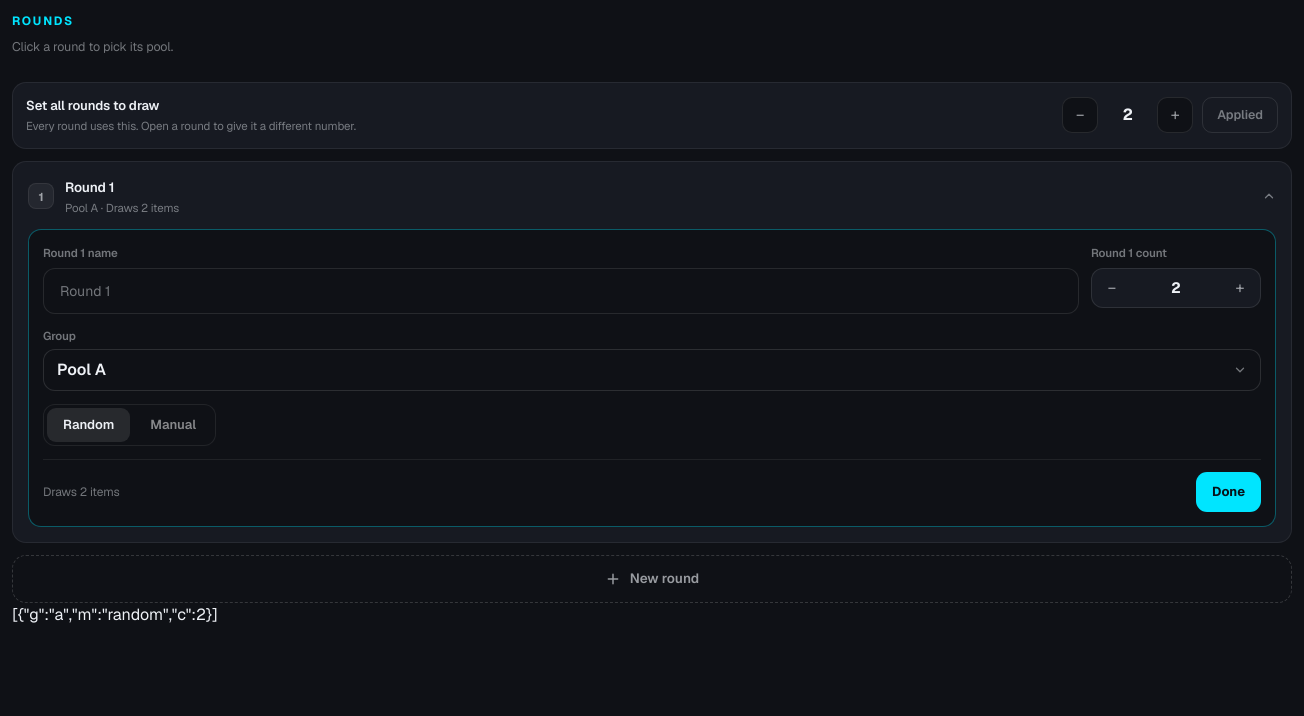
Test: RoundsEditor › switches to manual mode with per-place item dropdowns, seeding the minimum places
The image size is (1304, 716).
Click the radio button with aria-label "Round 1 manual" at (173, 424), box left=134, top=408, right=212, bottom=442
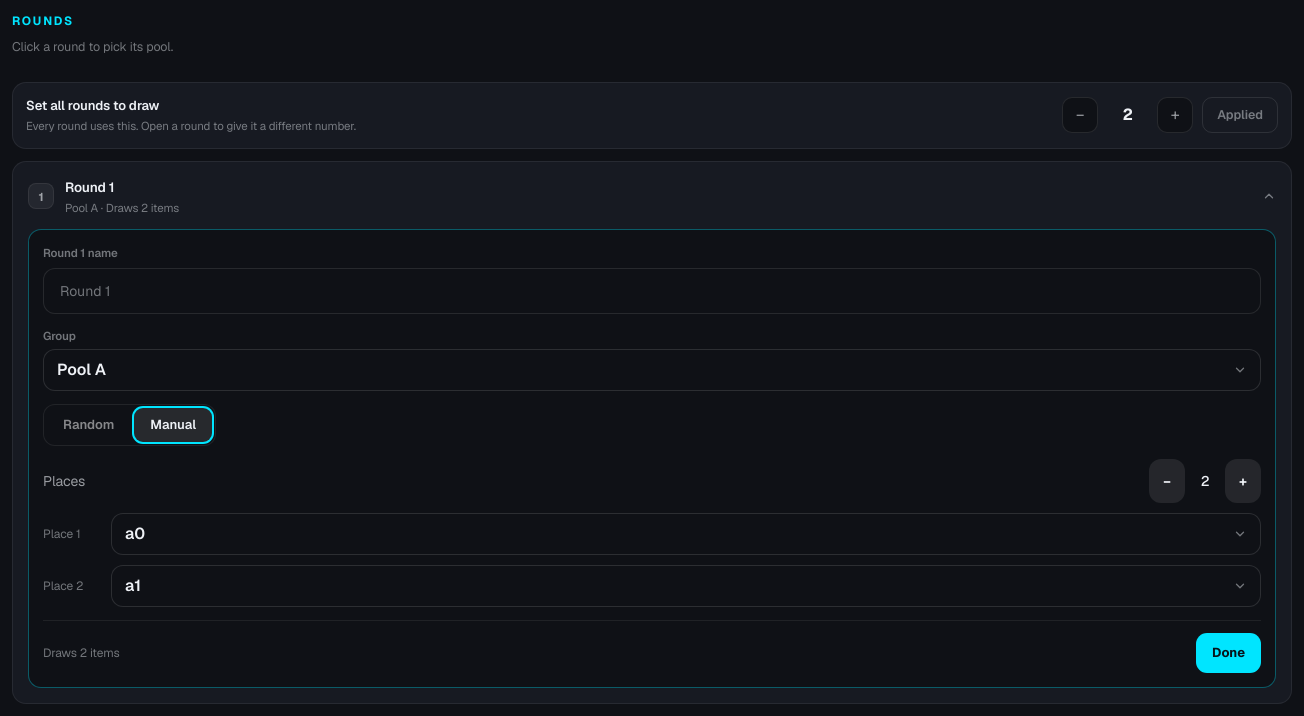
Expected: the text labelled "Round 1 count" is gone
Expected: the dropdown named "Item for place 1" is shown, left=111, top=512, right=1261, bottom=554
Expected: the dropdown named "Item for place 2" is shown, left=111, top=564, right=1261, bottom=606
